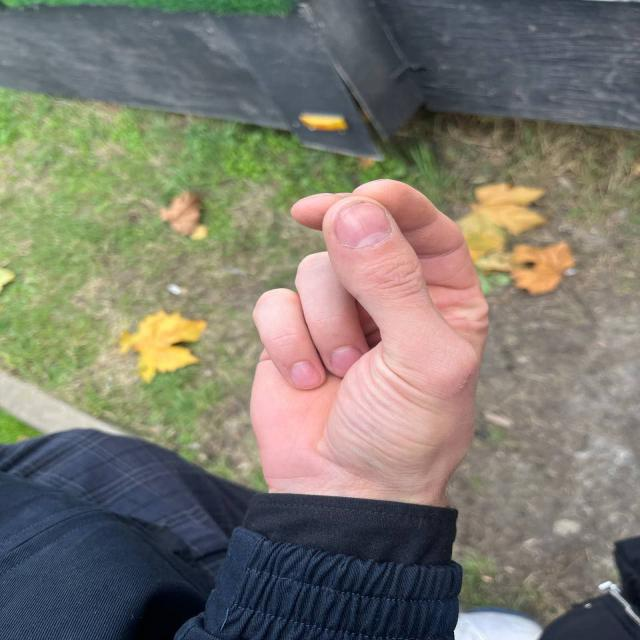ch: (224, 165, 516, 480)
